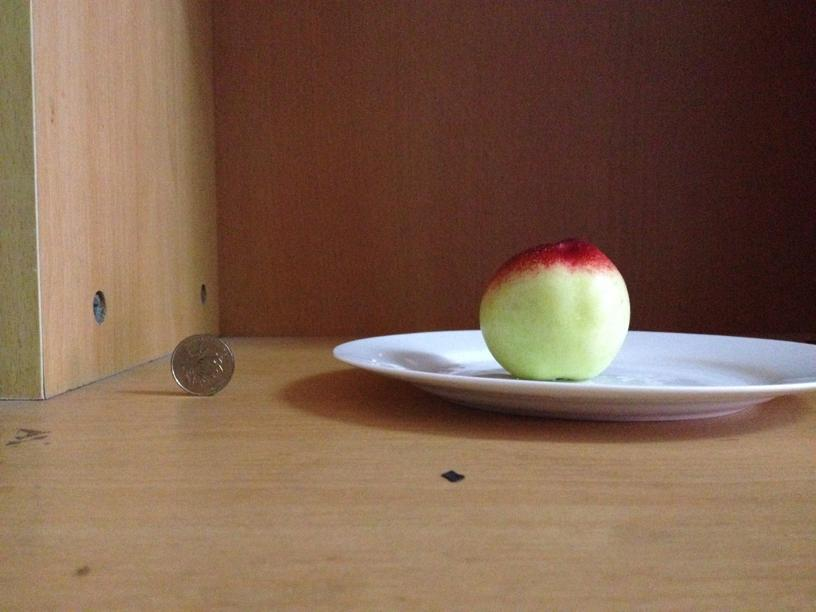coin: (173, 334, 234, 395)
peach: (477, 240, 629, 381)
